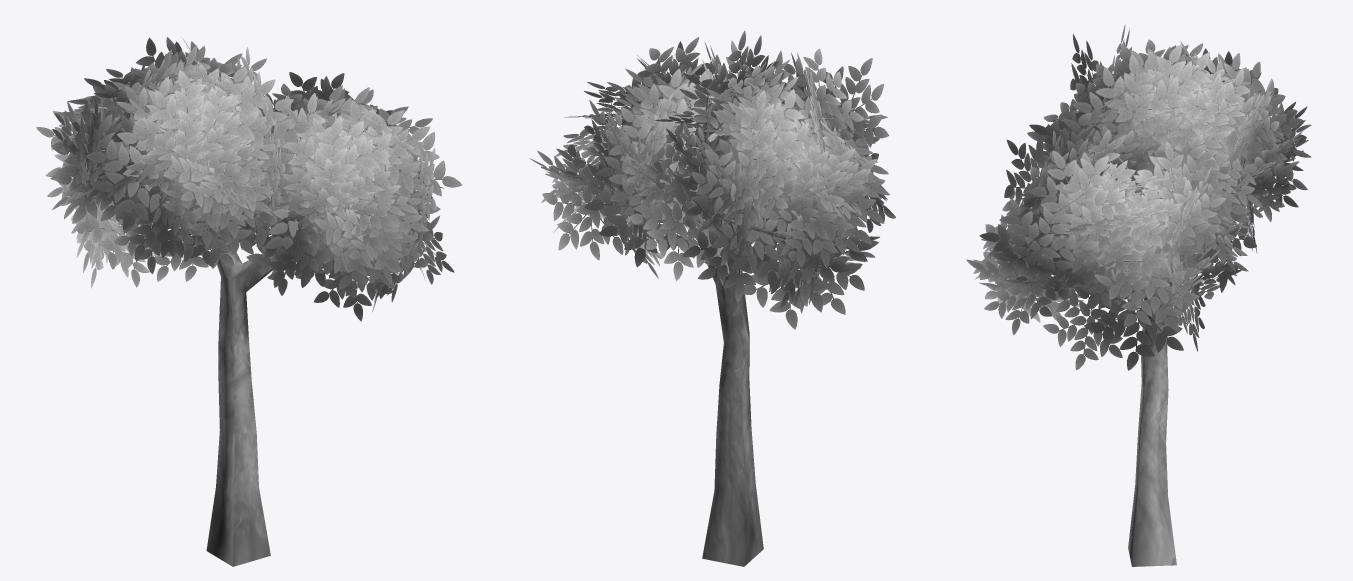
The model's file is Tree01.fbx.
3 renders of one model, left to right at view 1: azimuth 30°, elevation 25°; view 2: azimuth 150°, elevation 25°; view 3: azimuth 270°, elevation 25°, orthographic. The views are drawn at different scales.
Parts seen in each view (by area): view 1: Tree01_LOD0; view 2: Tree01_LOD0; view 3: Tree01_LOD0.
Part boxes in pixels (x1,y1,x2,y2): Tree01_LOD0: [36, 37, 462, 566]; Tree01_LOD0: [529, 30, 895, 566]; Tree01_LOD0: [966, 24, 1311, 566].
Size of what is drawn, in the model's own units: 234 by 310 by 212.
